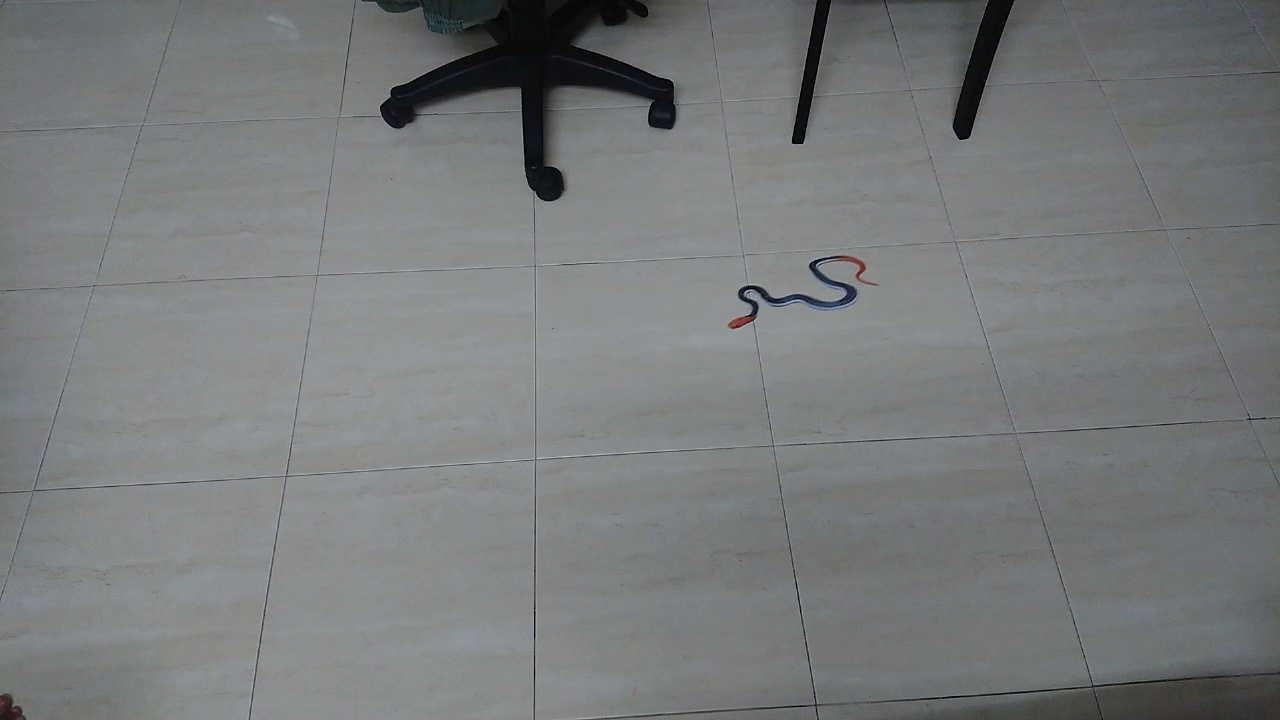snake: (716, 242, 889, 339)
